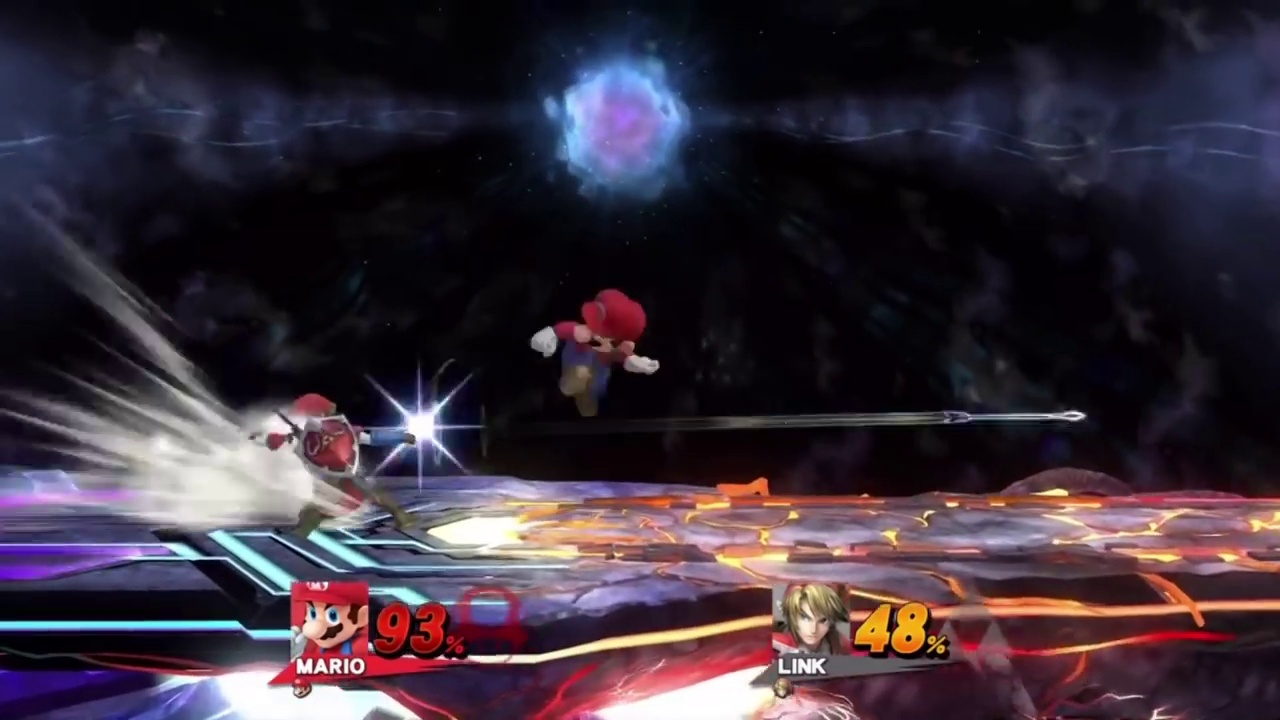Mario: (527, 291, 660, 415)
